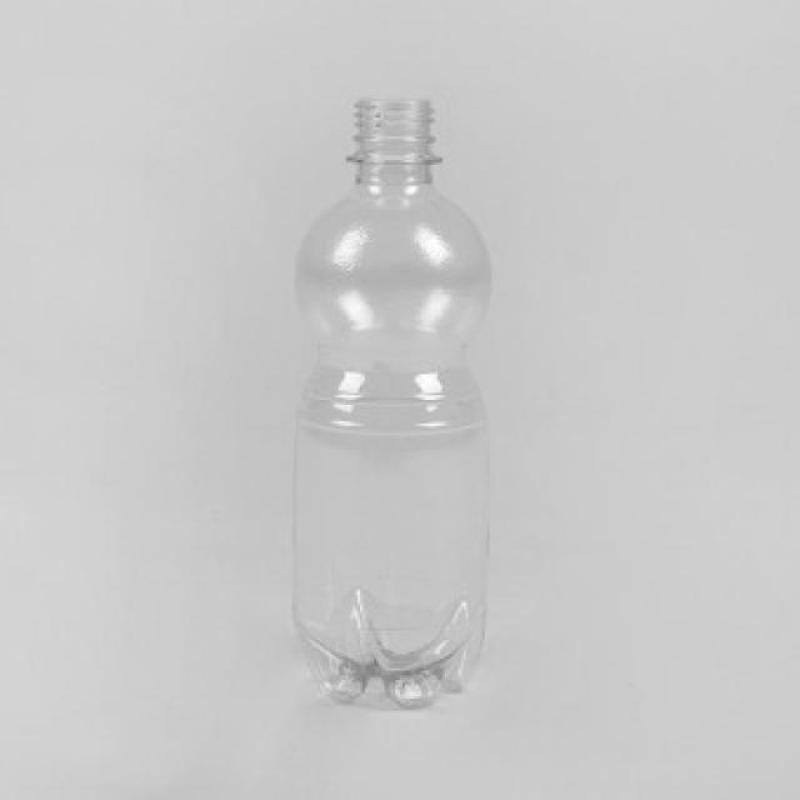botella: (292, 98, 492, 709)
